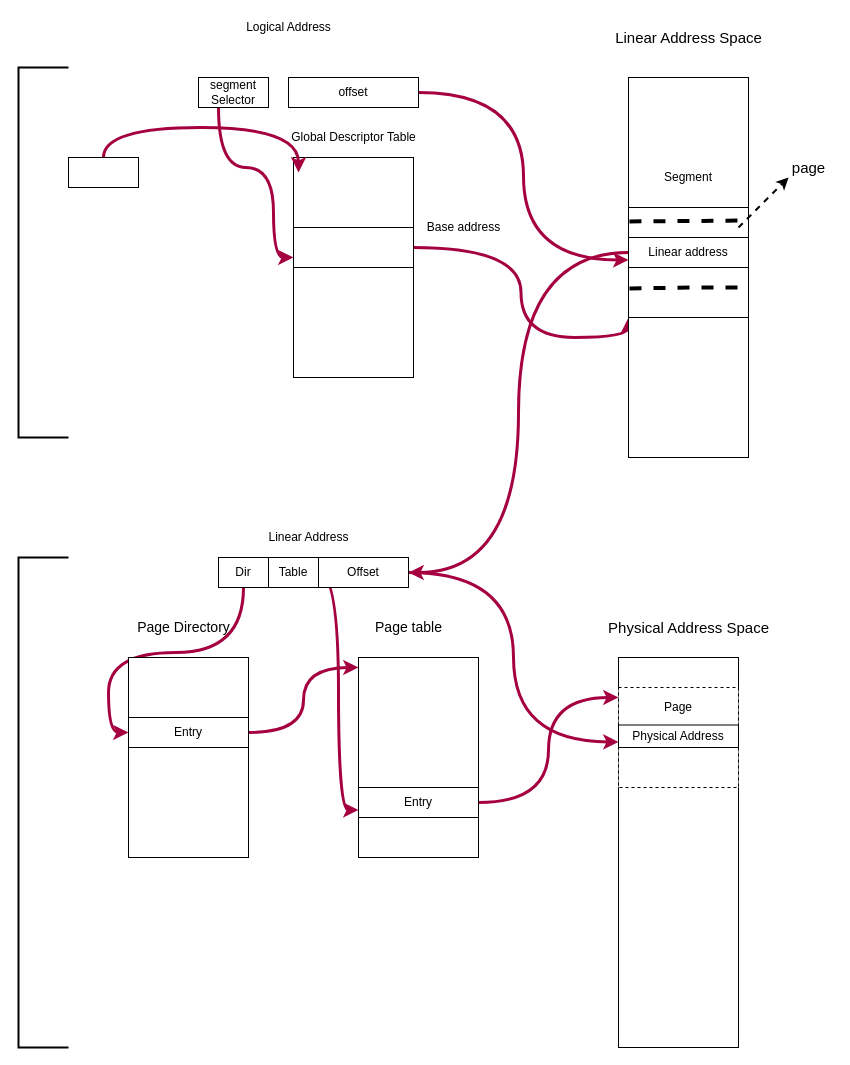
Some shapes in this 850 by 1065 pixel diagram are drawn without their labels. Each missing label, with the centre of its shape:
"GDTR" goes at pixel 103 172.
"Paging" goes at pixel 43 802.
"Segment Descriptor" goes at pixel 353 247.
"Segmentation" goes at pixel 43 252.
